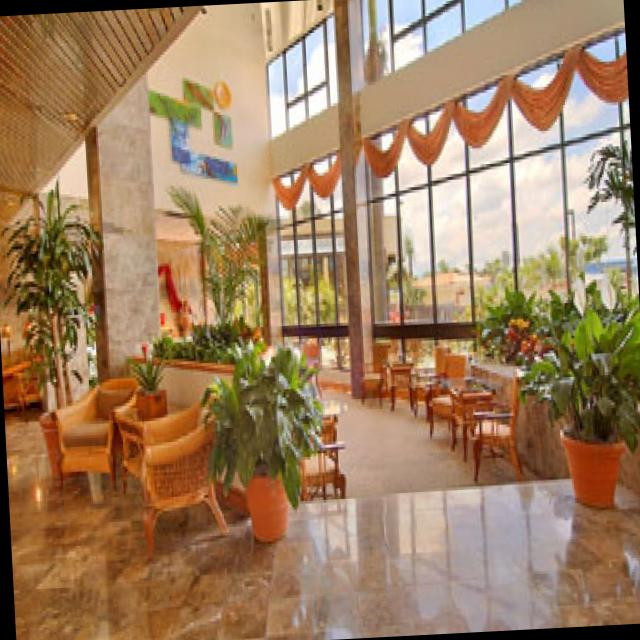2001: (268, 15, 340, 137)
2003: (362, 0, 517, 80)
armchair crop: (146, 387, 230, 561)
ceiling beam: (0, 6, 206, 232)
chair -occluded-: (475, 371, 524, 478)
column occluded: (87, 69, 164, 380)
curtain crop: (367, 43, 627, 172)
decoration -X: (152, 75, 239, 180)
floor -X: (8, 364, 544, 640), (271, 471, 640, 640)
large window crop: (367, 28, 640, 382), (280, 150, 352, 364)
plant -x: (537, 285, 640, 448)
plant pot occlued: (563, 427, 627, 505), (248, 466, 291, 539)
plants: (153, 186, 265, 359), (15, 184, 98, 407), (211, 344, 328, 502), (481, 289, 557, 373)
table runner: (120, 395, 194, 488)
wall clock: (261, 0, 640, 394), (0, 3, 287, 410), (480, 371, 640, 494)
